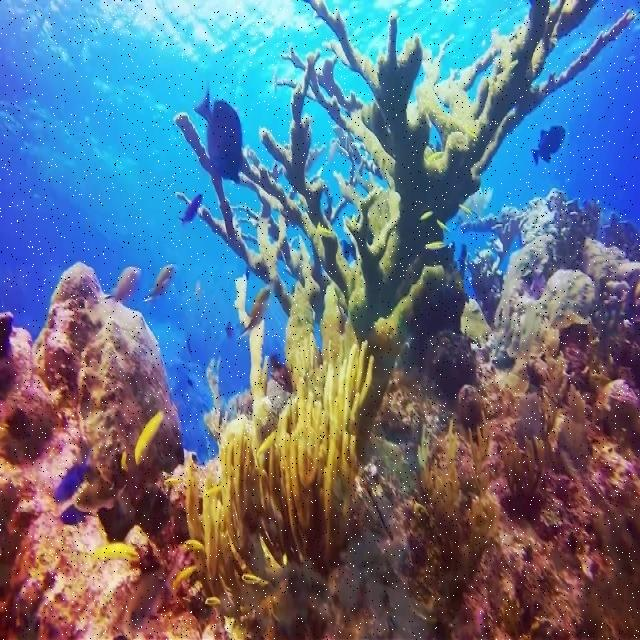fish: (191, 84, 243, 182), (54, 448, 96, 501), (237, 284, 272, 338), (134, 409, 166, 466), (76, 477, 126, 512), (531, 125, 566, 167), (171, 565, 201, 610), (105, 266, 142, 302), (142, 263, 175, 302), (87, 543, 140, 565), (59, 503, 99, 528), (270, 354, 293, 393), (177, 193, 202, 226), (177, 539, 206, 555), (241, 573, 263, 586), (317, 222, 336, 235), (436, 220, 451, 234), (163, 476, 181, 486), (121, 450, 129, 472), (425, 242, 447, 250), (420, 210, 435, 221), (205, 598, 224, 606), (459, 204, 471, 215)
reefs: (173, 0, 638, 461), (375, 316, 639, 639), (185, 303, 378, 639), (452, 186, 639, 383)
